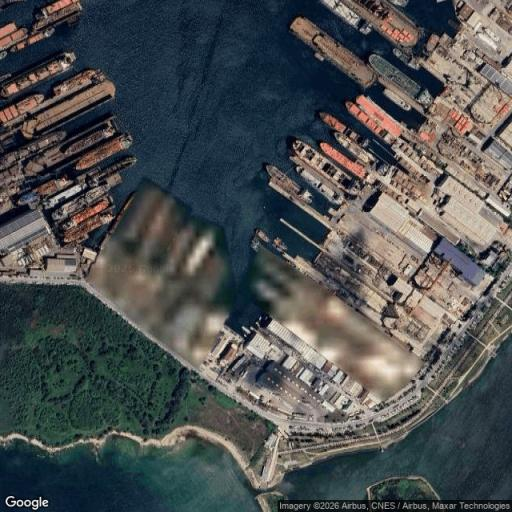ship: (290, 17, 375, 87), (22, 80, 115, 138), (344, 0, 420, 47), (0, 52, 75, 97), (291, 140, 352, 195), (369, 54, 431, 107), (346, 96, 402, 143), (0, 131, 66, 168), (52, 185, 109, 222), (75, 135, 131, 170), (17, 173, 74, 204), (266, 164, 311, 203), (320, 142, 367, 179), (296, 166, 340, 205), (335, 128, 375, 166), (33, 0, 82, 31), (63, 213, 113, 243), (63, 198, 110, 229), (64, 127, 115, 155), (88, 156, 136, 185), (53, 70, 105, 95), (0, 95, 43, 125), (321, 0, 361, 28), (11, 28, 54, 51), (0, 23, 27, 51), (384, 88, 411, 111), (393, 48, 419, 70), (319, 112, 346, 131), (0, 0, 25, 11), (272, 237, 287, 253), (255, 228, 269, 243), (359, 20, 372, 35), (389, 0, 408, 7), (240, 325, 252, 335), (0, 51, 7, 59)
